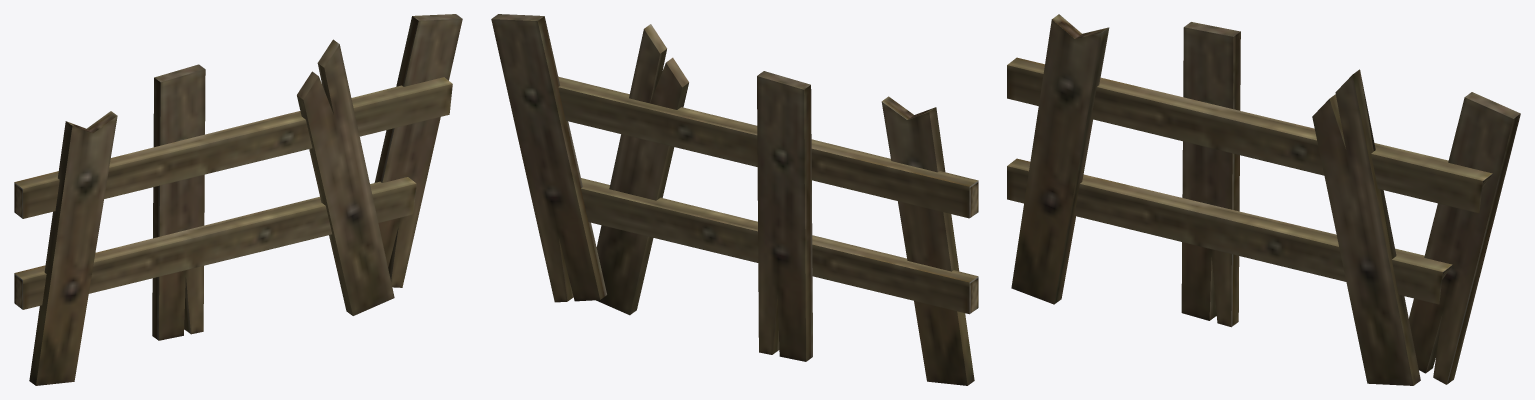
The model's file is DN_lv2_hczl02.FBX.
The picture shows the model from 3 angles, left to right: view 1: azimuth 30°, elevation 25°; view 2: azimuth 150°, elevation 25°; view 3: azimuth 330°, elevation 25°; orthographic projection. The views are drawn at different scales.
Visible parts, largest first — view 1: DN_lv2_hczl02; view 2: DN_lv2_hczl02; view 3: DN_lv2_hczl02.
Boxes of the visible parts, x1,y1,x2,y2 form: DN_lv2_hczl02: (14, 14, 462, 385); DN_lv2_hczl02: (491, 14, 978, 385); DN_lv2_hczl02: (1007, 14, 1520, 385).
Bounding box in the file's own units: 469 × 275 × 39.78.
